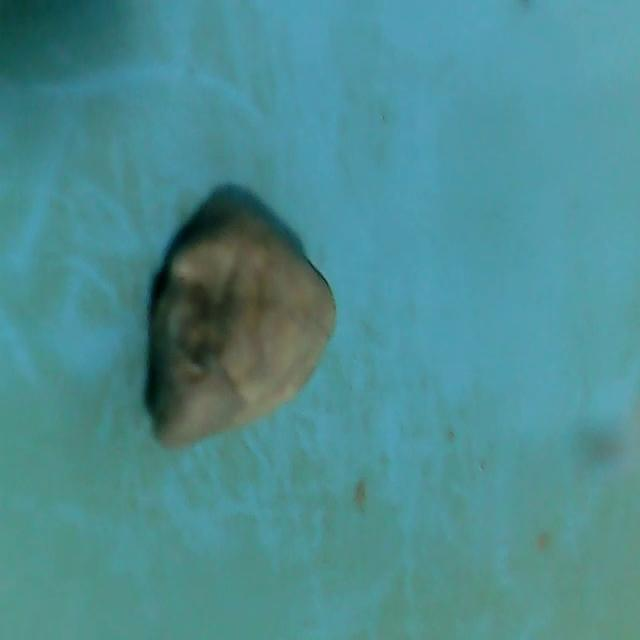rock: (142, 196, 341, 458)
